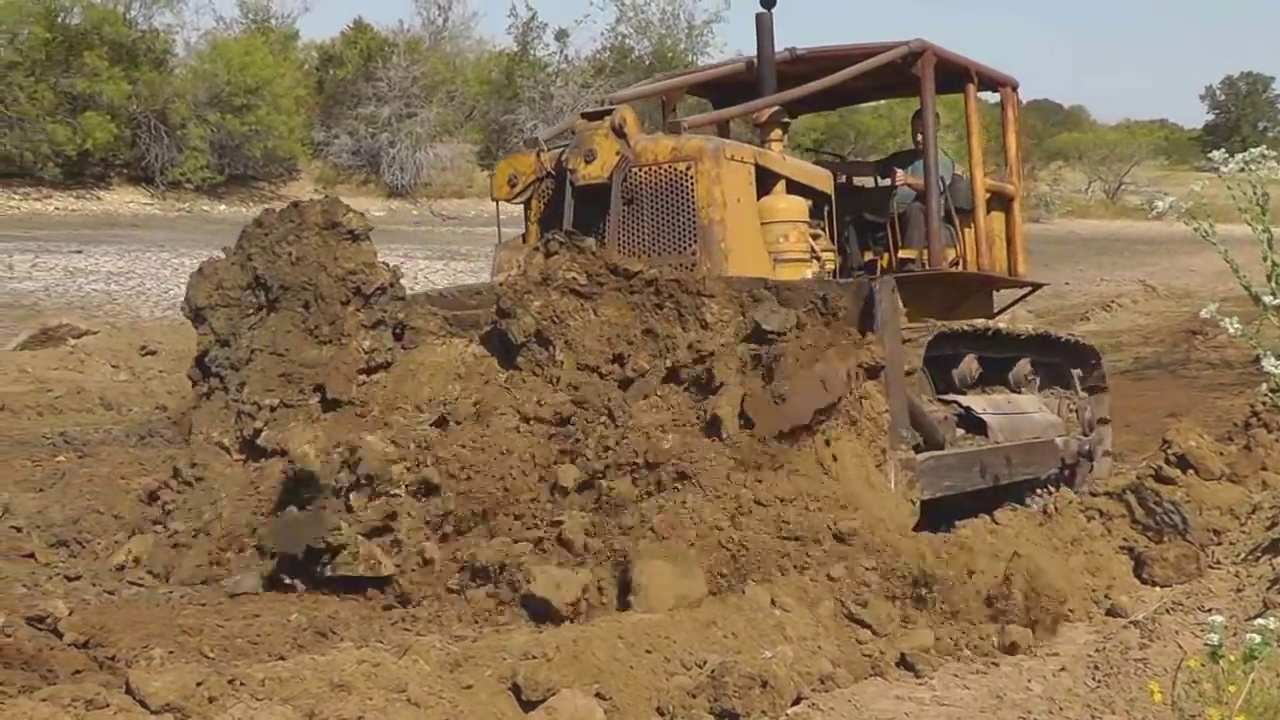bulldozer: (394, 35, 1118, 522)
person: (879, 109, 953, 254)
